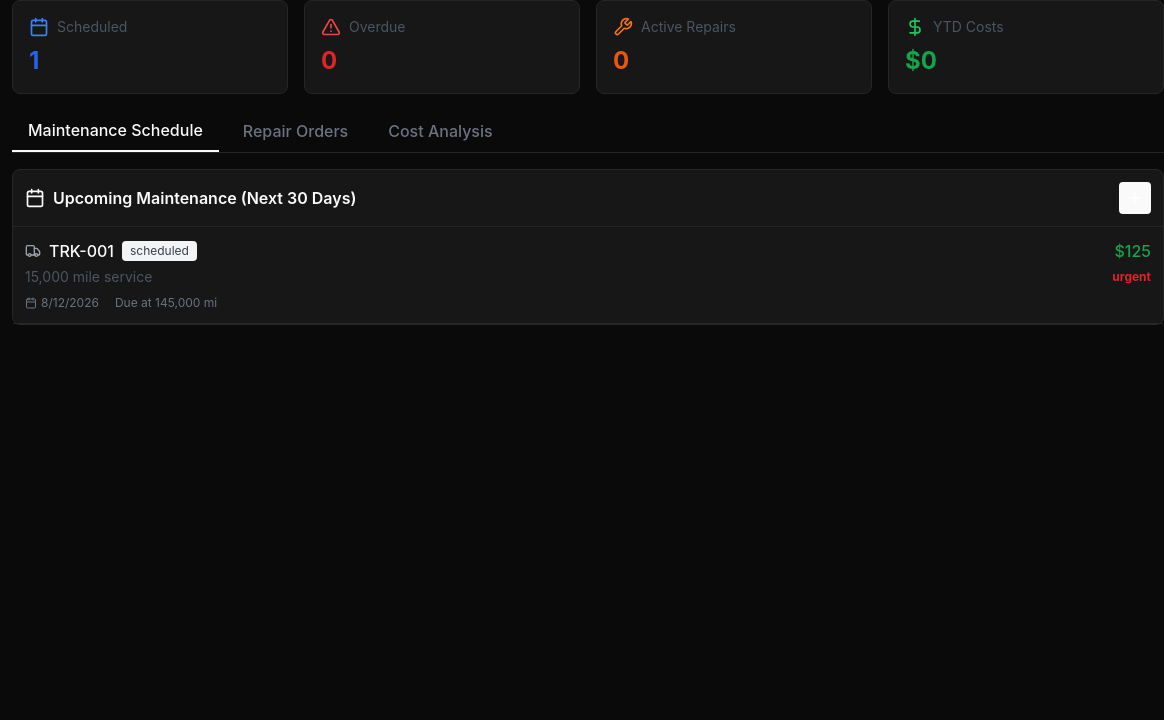
it: MaintenancePanel — the costs tab › does not print NaN when the year-to-date total is zero
Expected: the text "15,000 mile service" is shown, 25,268 -> 152,285
Click the button "Cost Analysis": (440, 131) 372,110 -> 509,152
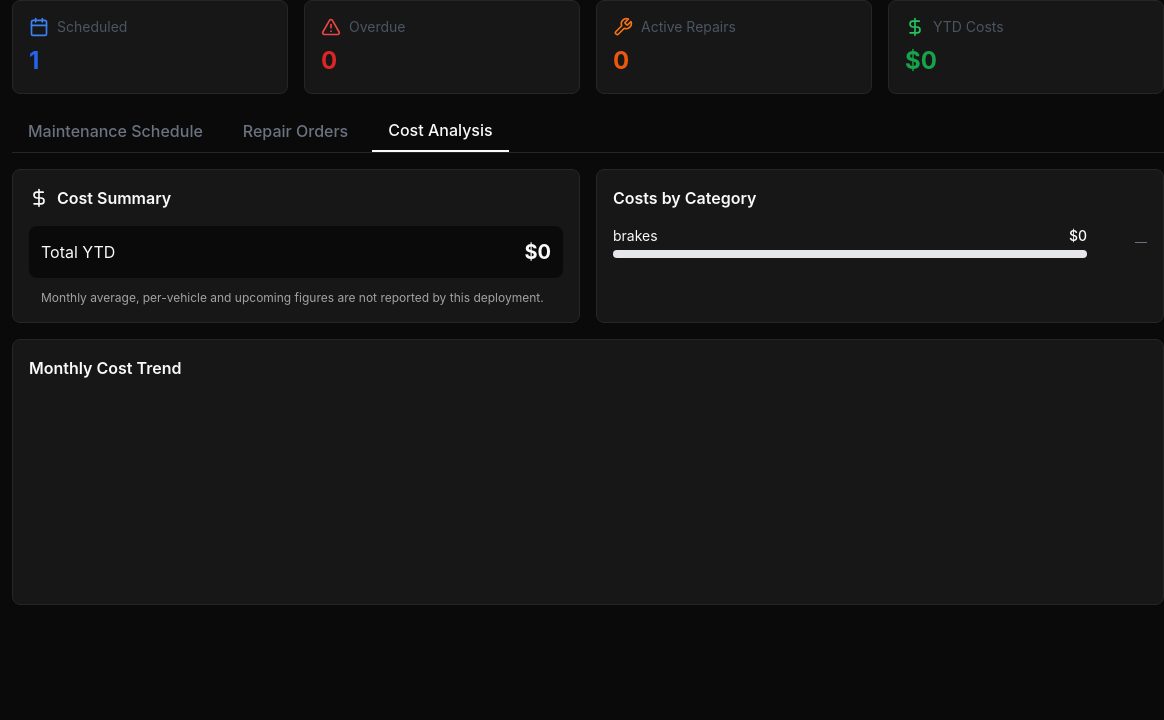
Result: the heading "Costs by Category" is shown at 613,188 -> 756,208
